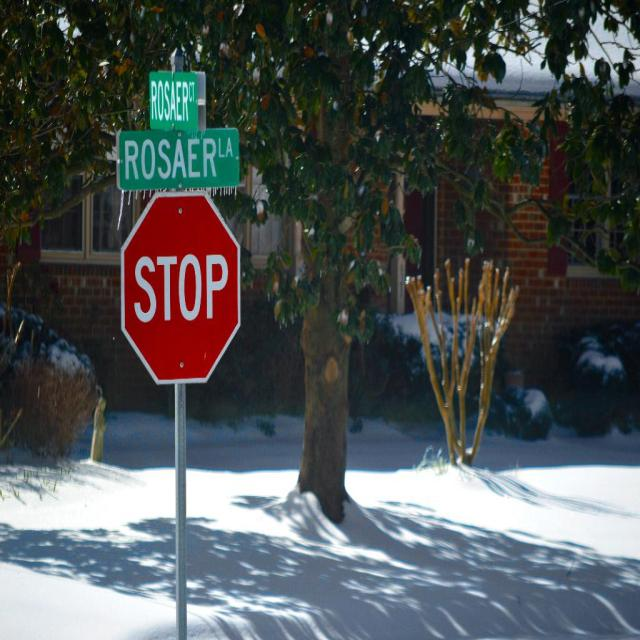Stop-sign: (120, 190, 242, 384)
